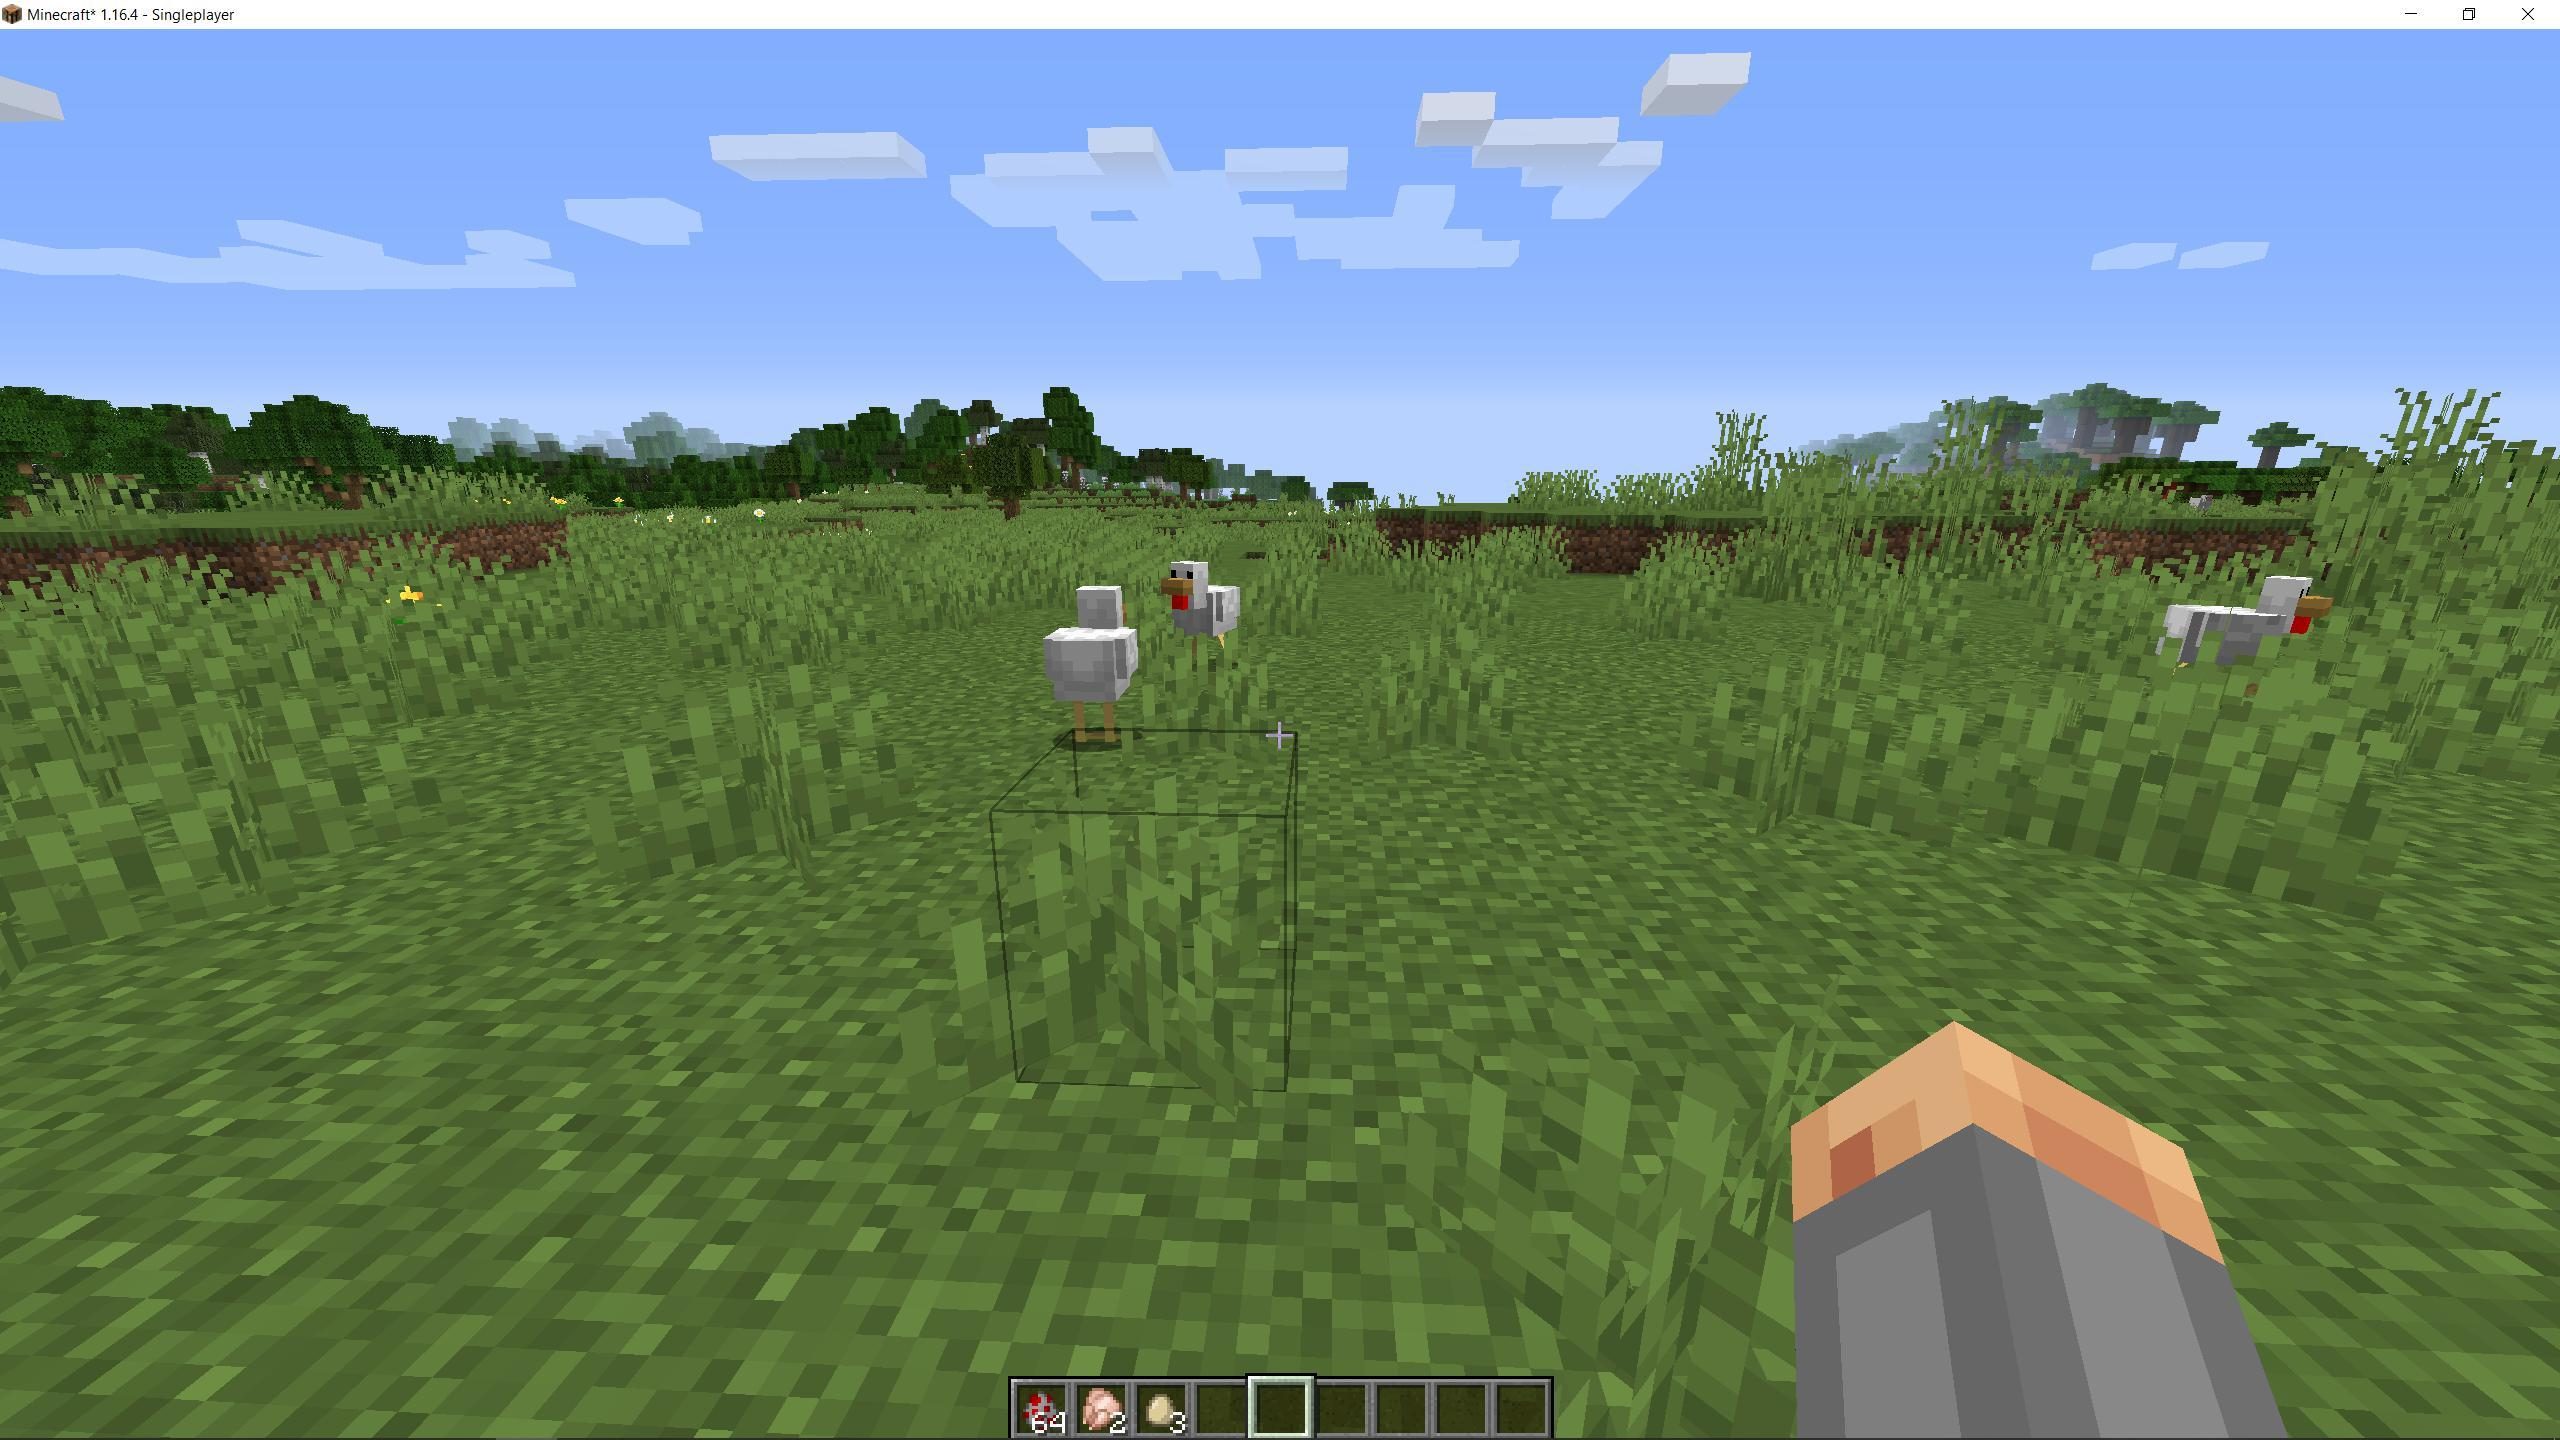chicken: (2143, 564, 2330, 721), (1036, 578, 1139, 731), (1153, 559, 1255, 668)
